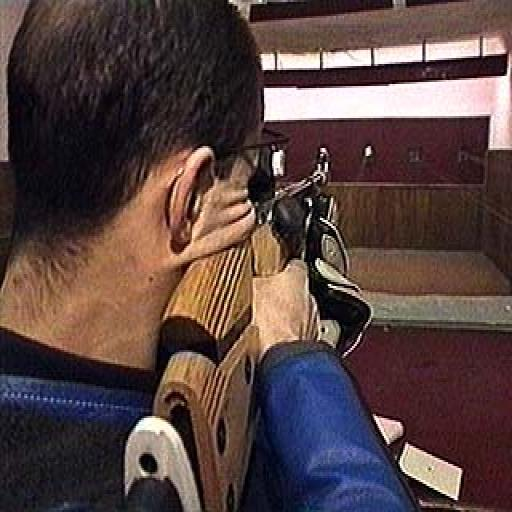shooting: (0, 0, 421, 510)
